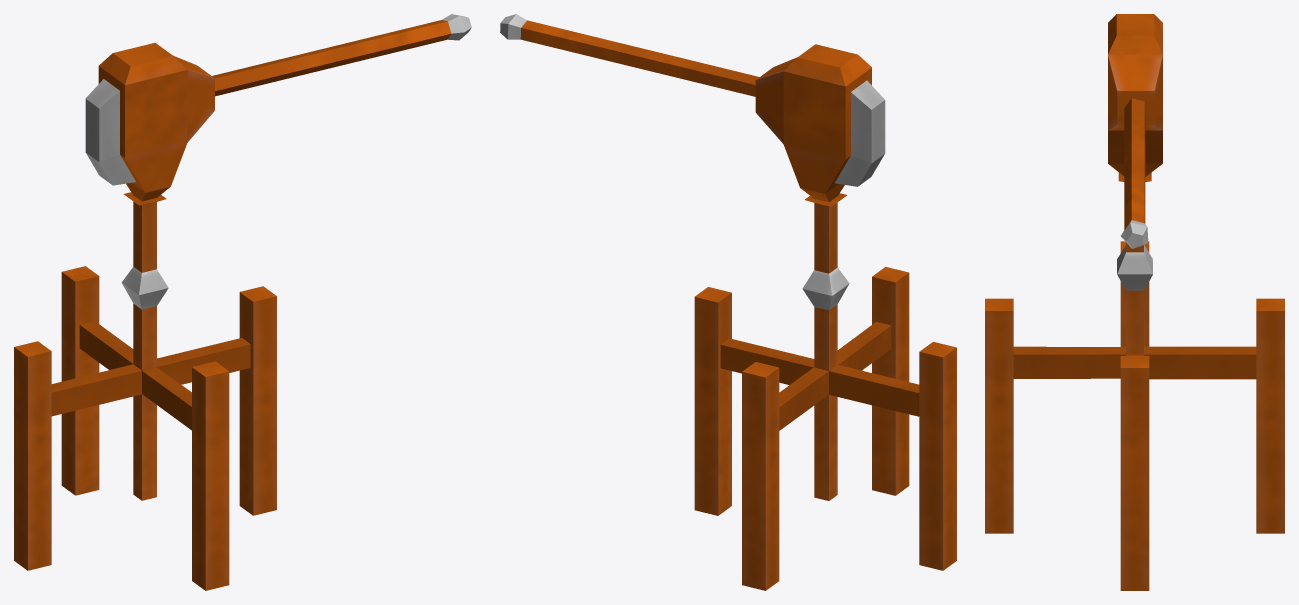
The model's file is Torrelongoalcance1.fbx.
The picture shows the model from 3 angles, left to right: view 1: azimuth 30°, elevation 25°; view 2: azimuth 150°, elevation 25°; view 3: azimuth 270°, elevation 25°; orthographic projection. The views are drawn at different scales.
Parts seen in each view (by area): view 1: Base, Torre; view 2: Base, Torre; view 3: Base, Torre.
Part boxes in pixels (x1,y1,x2,y2): Base: (14,266,276,590); Torre: (85,14,471,500); Base: (694,267,956,590); Torre: (500,14,885,500); Base: (985,241,1284,590); Torre: (1108,14,1162,354).
Size of the model in its own units: 482 by 496 by 269.
